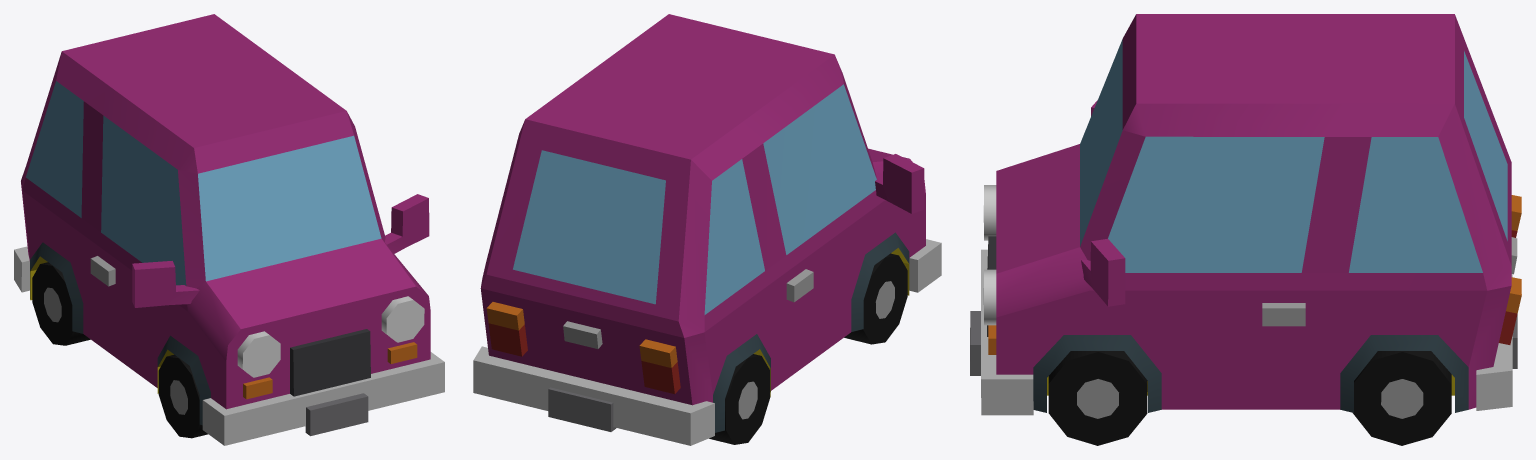
File: Car_01_pink.fbx
The picture shows the model from 3 angles, left to right: view 1: azimuth 30°, elevation 25°; view 2: azimuth 150°, elevation 25°; view 3: azimuth 270°, elevation 25°; orthographic projection. The views are drawn at different scales.
Visible parts, largest first — view 1: Car_01_pink; view 2: Car_01_pink; view 3: Car_01_pink.
Boxes of the visible parts, bbox=[...] form: Car_01_pink: bbox=[14, 14, 444, 445]; Car_01_pink: bbox=[473, 14, 941, 445]; Car_01_pink: bbox=[970, 14, 1521, 445].
Bounding box in the file's own units: 49.56 × 43.35 × 66.84.
